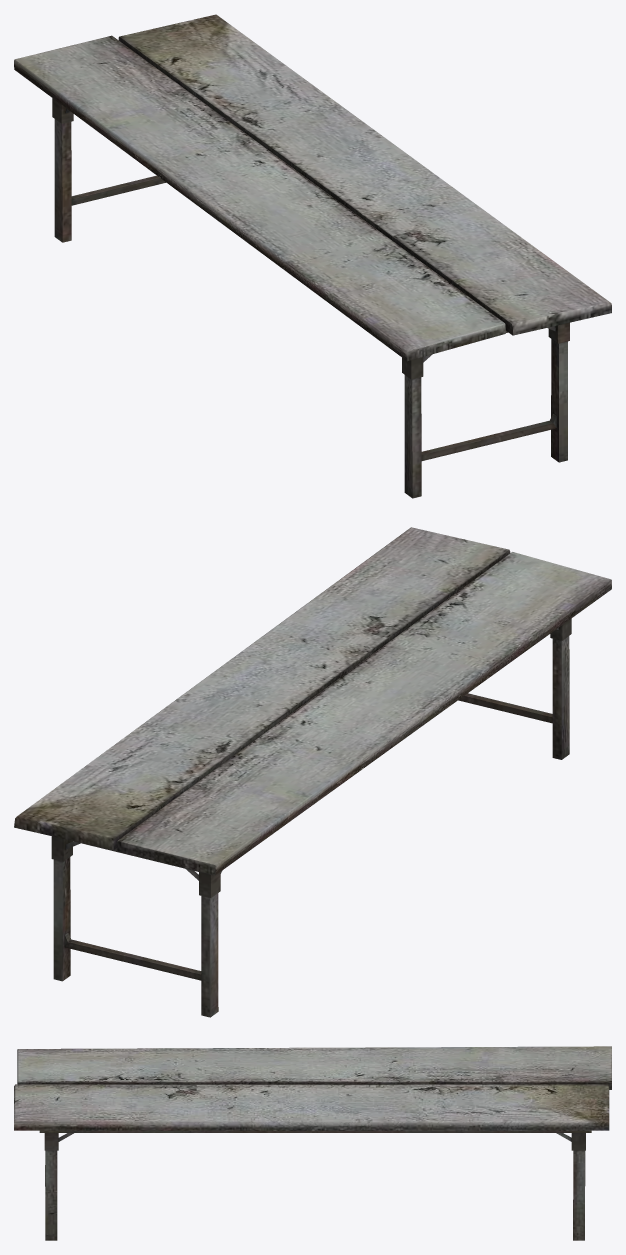
Rendered from cafeteria_table001a.glb.
3 views of the same model, one above another, from view 1: azimuth 30°, elevation 25°; view 2: azimuth 150°, elevation 25°; view 3: azimuth 270°, elevation 25° (orthographic). The views are drawn at different scales.
Visible parts, largest first — view 1: 0_cafeteria_tables01; view 2: 0_cafeteria_tables01; view 3: 0_cafeteria_tables01.
Boxes of the visible parts, x1,y1,x2,y2 form: 0_cafeteria_tables01: (14, 14, 611, 498); 0_cafeteria_tables01: (14, 527, 611, 1017); 0_cafeteria_tables01: (14, 1046, 611, 1240).
Bounding box in the file's own units: 0.9655 × 0.7749 × 3.27.
1 material, 1 textured.
